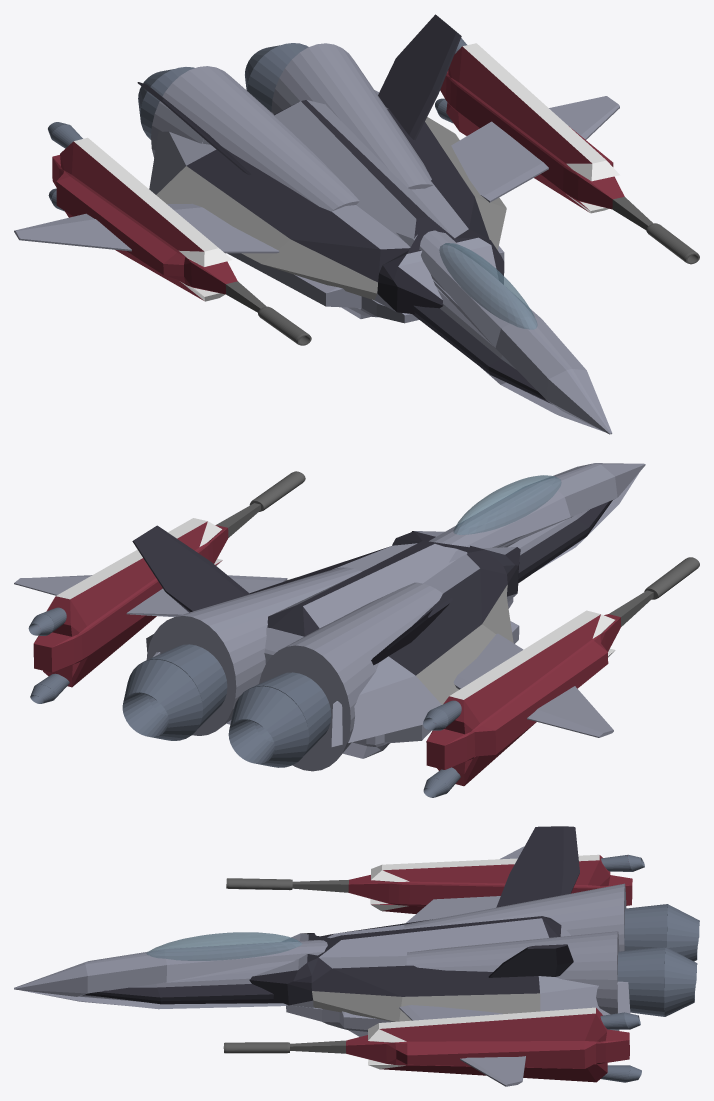
File: 戦闘機3.fbx
3 renders of one model, top to bottom at view 1: azimuth 30°, elevation 25°; view 2: azimuth 150°, elevation 25°; view 3: azimuth 270°, elevation 25°, orthographic. The views are drawn at different scales.
Parts seen in each view (by area): view 1: Cube, 円柱, 円柱.009, 円柱.005, 円柱.004, 円柱.002, 立方体.001, 立方体.003, 立方体.002, 球, Cube.001, 円柱.001 (+2 smaller); view 2: Cube, 円柱.009, 円柱.005, 円柱, 円柱.004, 円柱.002, 円柱.001, 円柱.003, 立方体.003, 立方体.002, 球, 立方体.001 (+2 smaller); view 3: Cube, 円柱.005, 円柱, 円柱.009, 円柱.002, 円柱.004, 立方体.004, 円柱.001, 円柱.003, 球, 立方体.001, 立方体.003 (+2 smaller).
Part boxes in pixels (x1,y1,x2,y2): Cube: [149, 90, 506, 314]; 円柱: [396, 230, 612, 434]; 円柱.009: [48, 122, 311, 345]; 円柱.005: [435, 38, 699, 264]; 円柱.004: [151, 66, 359, 211]; 円柱.002: [271, 43, 433, 189]; 立方体.001: [451, 96, 619, 202]; 立方体.003: [378, 14, 461, 140]; 立方体.002: [14, 203, 279, 253]; 球: [439, 243, 537, 329]; Cube.001: [227, 246, 504, 323]; 円柱.001: [245, 43, 308, 111]; Cube: [146, 531, 520, 746]; 円柱.009: [423, 557, 699, 797]; 円柱.005: [28, 471, 305, 703]; 円柱: [429, 463, 645, 582]; 円柱.004: [259, 582, 442, 771]; 円柱.002: [146, 567, 361, 735]; 円柱.001: [122, 644, 227, 740]; 円柱.003: [228, 672, 331, 767]; 立方体.003: [132, 525, 250, 612]; 立方体.002: [453, 633, 613, 737]; 球: [453, 475, 561, 534]; 立方体.001: [14, 575, 287, 616]; Cube: [249, 916, 630, 1021]; 円柱.005: [223, 1007, 641, 1082]; 円柱: [14, 940, 327, 1009]; 円柱.009: [226, 854, 644, 913]; 円柱.002: [406, 931, 619, 1030]; 円柱.004: [404, 883, 626, 951]; 立方体.004: [496, 826, 579, 907]; 円柱.001: [617, 946, 697, 1016]; 円柱.003: [624, 904, 699, 961]; 球: [146, 932, 302, 960]; 立方体.001: [399, 1005, 525, 1086]; 立方体.003: [488, 944, 573, 977].
Size of the model in its own units: 1257 by 340 by 1544.
